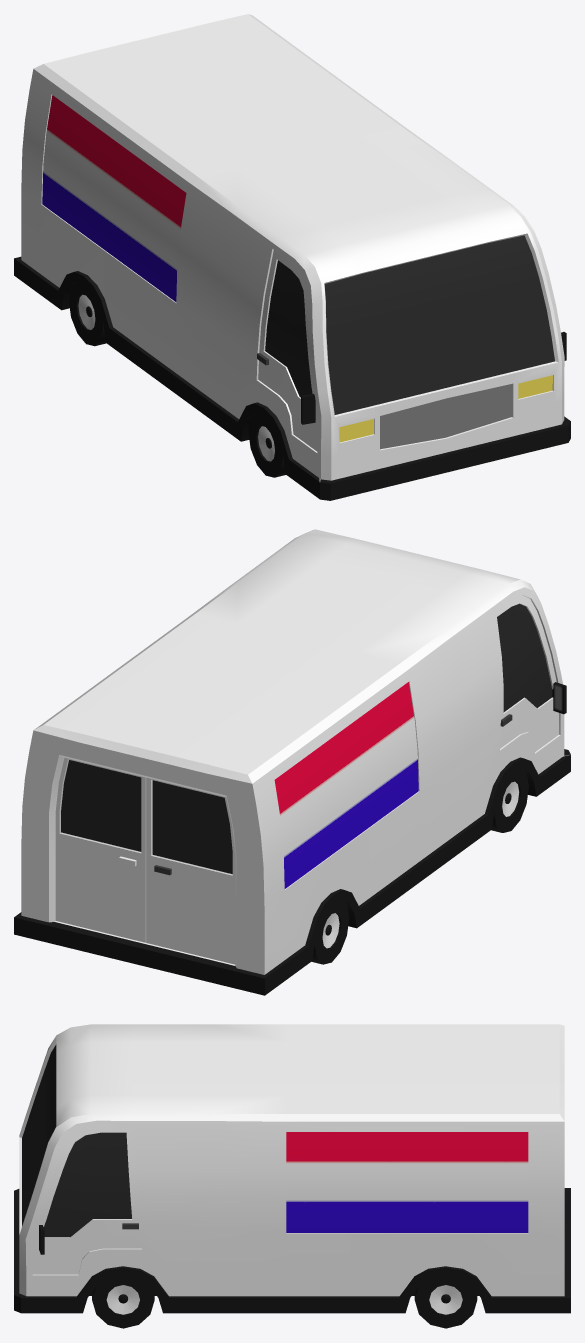
File: busje new.fbx
3 views of the same model, one above another, from view 1: azimuth 30°, elevation 25°; view 2: azimuth 150°, elevation 25°; view 3: azimuth 270°, elevation 25° (orthographic). The views are drawn at different scales.
Visible parts, largest first — view 1: busje, RF, RR; view 2: busje, RF, RR; view 3: busje, wheel LR, wheel LF.
Boxes of the visible parts, <box> form: busje: <box>14,14,570,500</box>; RF: <box>248,414,285,477</box>; RR: <box>68,282,106,346</box>; busje: <box>14,529,570,995</box>; RF: <box>491,769,528,832</box>; RR: <box>311,900,349,964</box>; busje: <box>14,1024,570,1313</box>; wheel LR: <box>414,1277,477,1328</box>; wheel LF: <box>92,1277,154,1328</box>.
Size of the model in its own units: 2.36 by 1.96 by 4.8.
